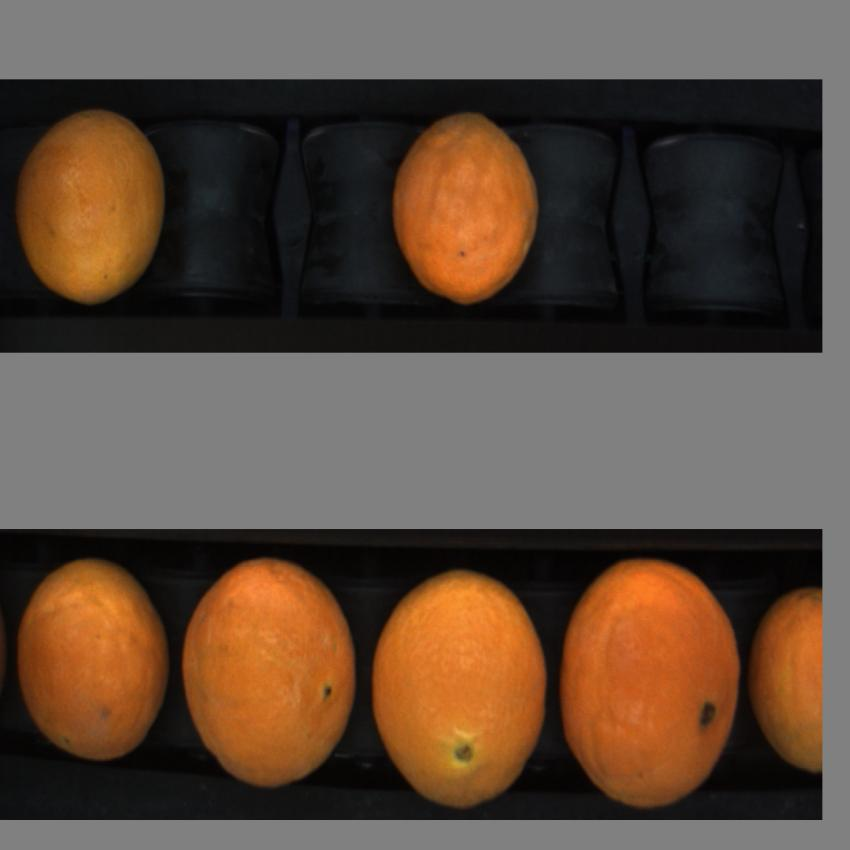Buen estado: (558, 558, 744, 812), (368, 566, 548, 816), (180, 562, 356, 802), (11, 555, 172, 776), (13, 111, 172, 301), (753, 567, 823, 792)
Mal estado: (393, 112, 542, 305)
